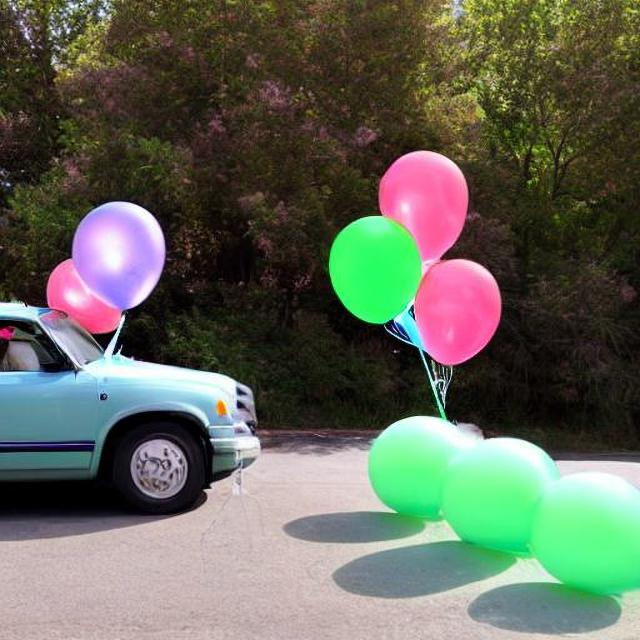balloon: (344, 410, 631, 615), (323, 150, 495, 392), (31, 196, 190, 334), (322, 204, 438, 331), (405, 252, 498, 364)
